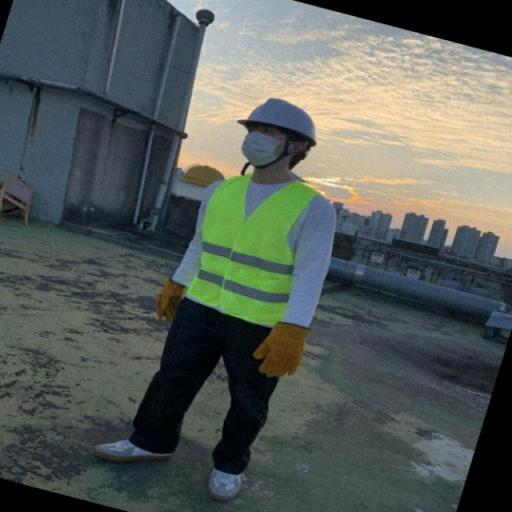Person: (56, 91, 361, 498)
boots: (80, 421, 170, 466), (200, 463, 244, 498)
gloves: (253, 318, 306, 376), (155, 279, 185, 322)
helmet: (240, 93, 326, 139)
none: (235, 116, 313, 138)
vest: (199, 166, 309, 328)
